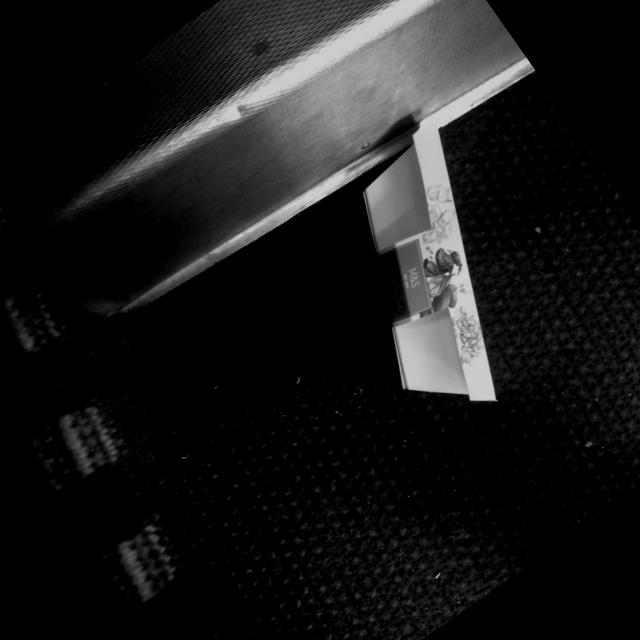Food Carton: (363, 117, 497, 400)
